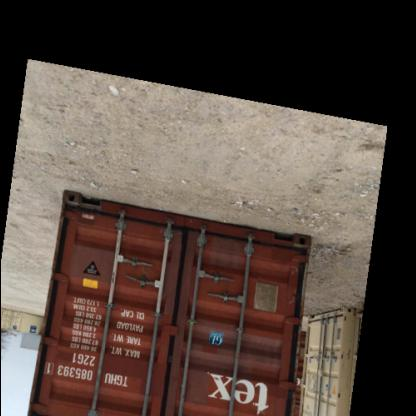Damage: (281, 248, 307, 274), (281, 276, 299, 312)
